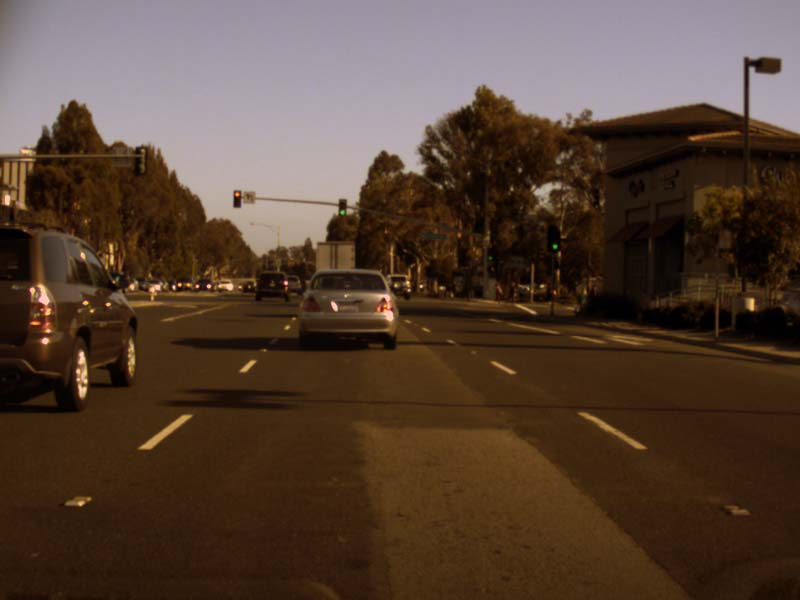Green: (546, 224, 561, 252), (486, 247, 496, 262), (338, 198, 346, 216)
Red: (233, 189, 241, 208)
